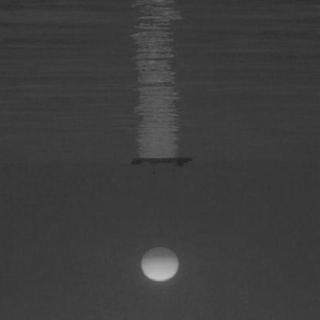other: (126, 4, 186, 164), (134, 242, 187, 290)
